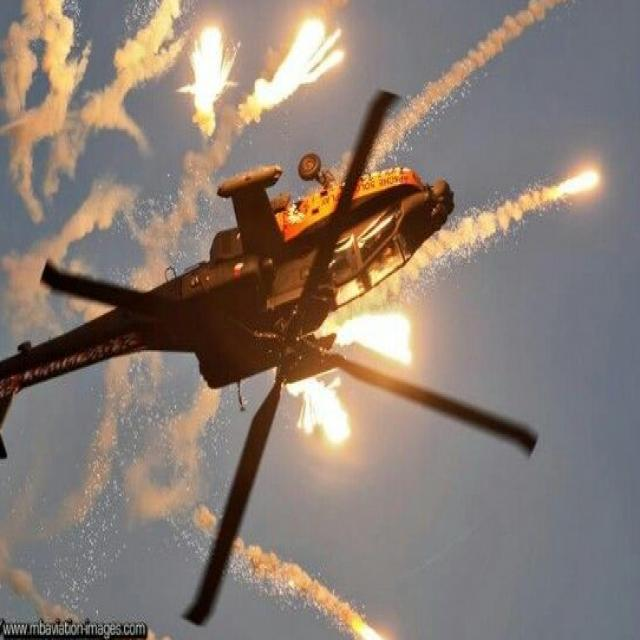helicopter: (1, 98, 543, 624)
